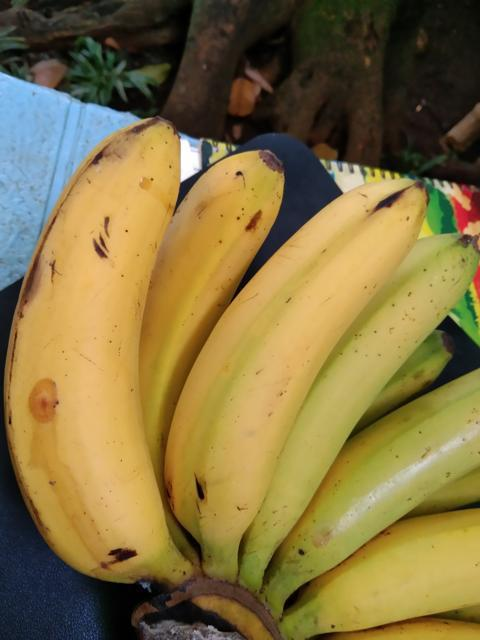freshripe: (185, 169, 425, 561), (125, 139, 288, 444), (270, 388, 474, 593), (301, 498, 479, 630)
ripe: (0, 111, 195, 588)
